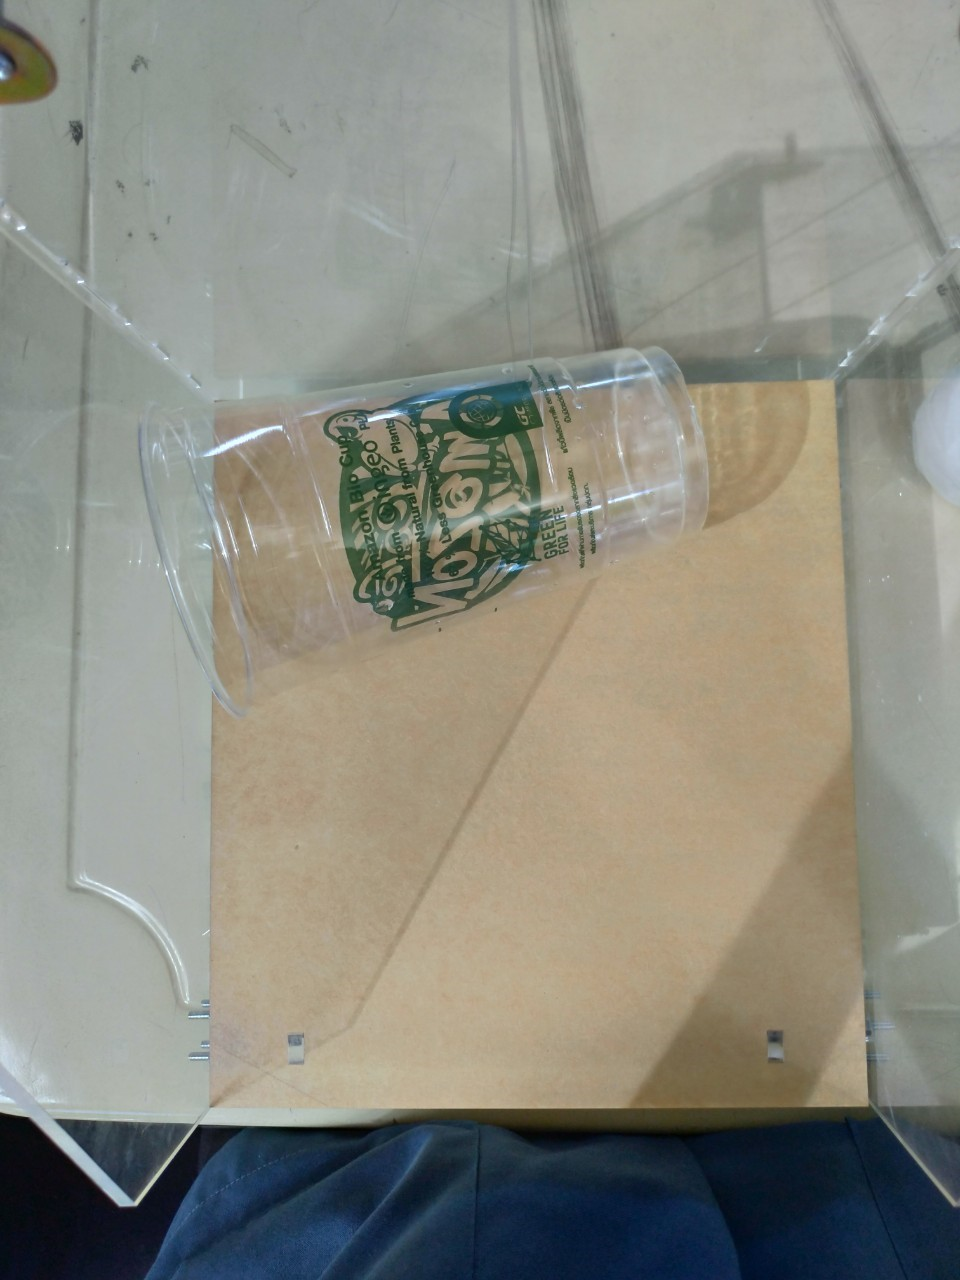PlasticCup: (137, 343, 712, 721)
